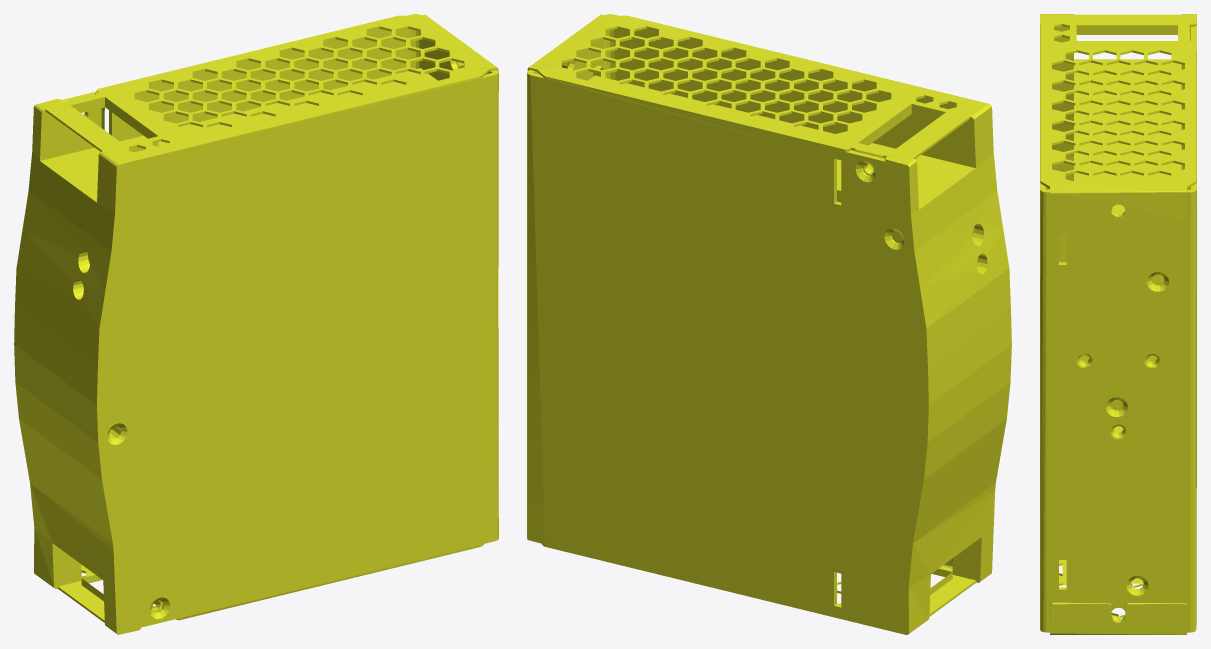
The model's file is SDR-120-24.fbx.
3 renders of one model, left to right at view 1: azimuth 30°, elevation 25°; view 2: azimuth 150°, elevation 25°; view 3: azimuth 270°, elevation 25°, orthographic. The views are drawn at different scales.
Visible parts, largest first — view 1: SDR-120-24; view 2: SDR-120-24; view 3: SDR-120-24.
Boxes of the visible parts, x1,y1,x2,y2 form: SDR-120-24: [14, 14, 498, 634]; SDR-120-24: [527, 14, 1011, 634]; SDR-120-24: [1040, 14, 1196, 634].
Size of the model in its own units: 113 by 125 by 40.
